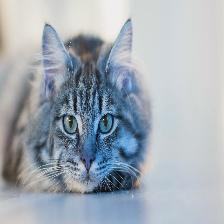kedo: (44, 19, 142, 193)
